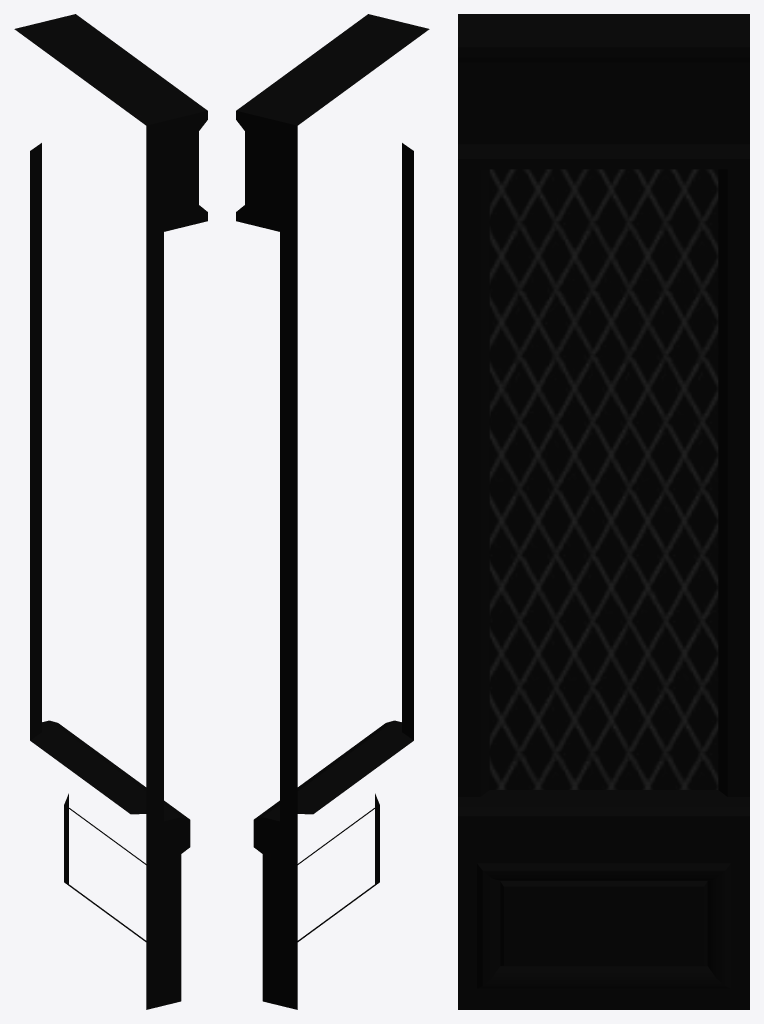
3 views of the same model, side by side, from view 1: azimuth 30°, elevation 25°; view 2: azimuth 150°, elevation 25°; view 3: azimuth 270°, elevation 25° (orthographic). The views are drawn at different scales.
Parts seen in each view (by area): view 1: body0_model0_lod0_mesh0; view 2: body0_model0_lod0_mesh0; view 3: body0_model0_lod0_mesh0, body0_model0_lod0_mesh1.
Part boxes in pixels (<box>): body0_model0_lod0_mesh0: <box>14,14,207,1009</box>; body0_model0_lod0_mesh0: <box>236,14,429,1009</box>; body0_model0_lod0_mesh0: <box>458,14,749,1009</box>; body0_model0_lod0_mesh1: <box>489,169,718,789</box>.
Size of the model in its own units: 13.99 by 192 by 51.99.
2 materials, 2 textured.
